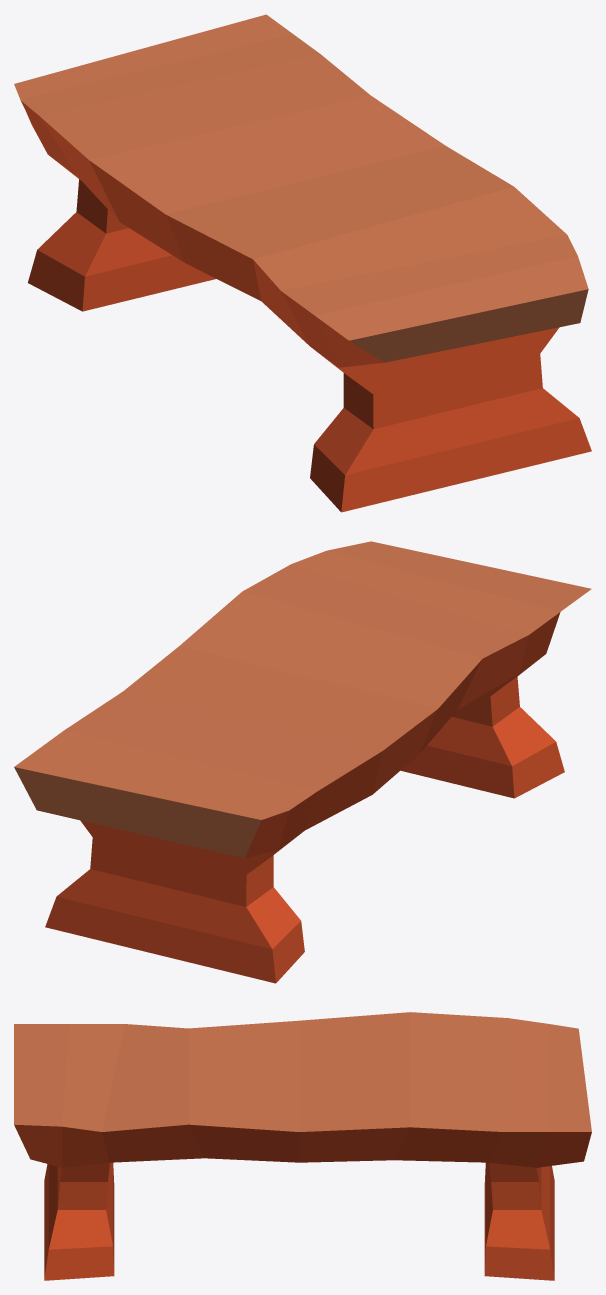
The model's file is bench.fbx.
3 renders of one model, top to bottom at view 1: azimuth 30°, elevation 25°; view 2: azimuth 150°, elevation 25°; view 3: azimuth 270°, elevation 25°, orthographic. The views are drawn at different scales.
Visible parts, largest first — view 1: Cube; view 2: Cube; view 3: Cube.
Boxes of the visible parts, x1,y1,x2,y2 form: Cube: (14,14,591,512); Cube: (14,541,591,983); Cube: (14,1012,591,1280).
Bounding box in the file's own units: 225 × 147 × 479.
